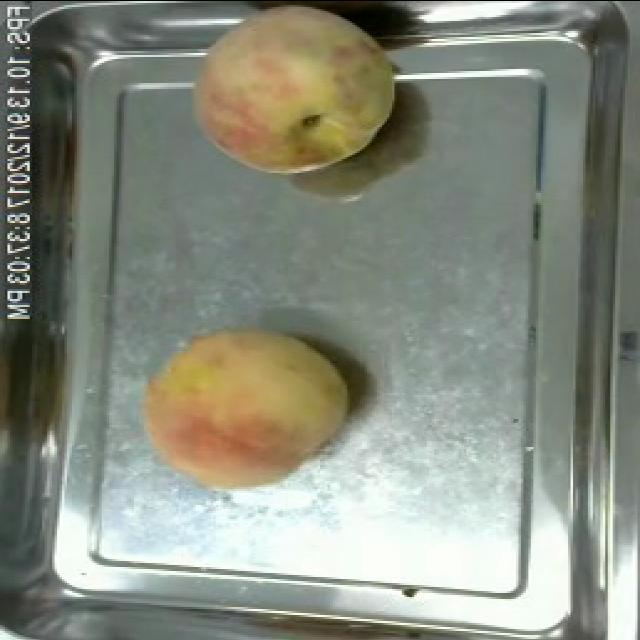Fruit: (130, 314, 360, 502), (178, 0, 404, 186)
